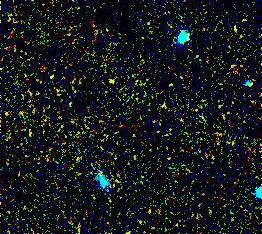star: (98, 69, 128, 99)
